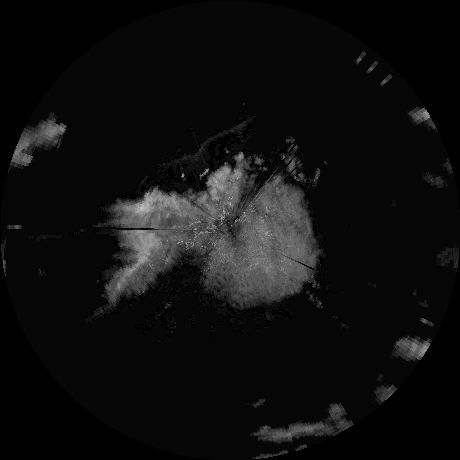frontgust: (171, 122, 243, 166)
